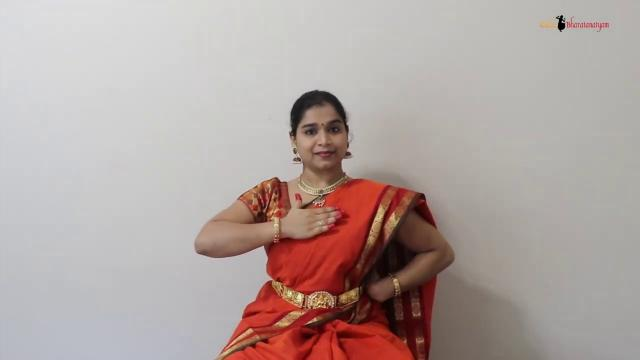ardhachandra: (279, 185, 357, 258)
